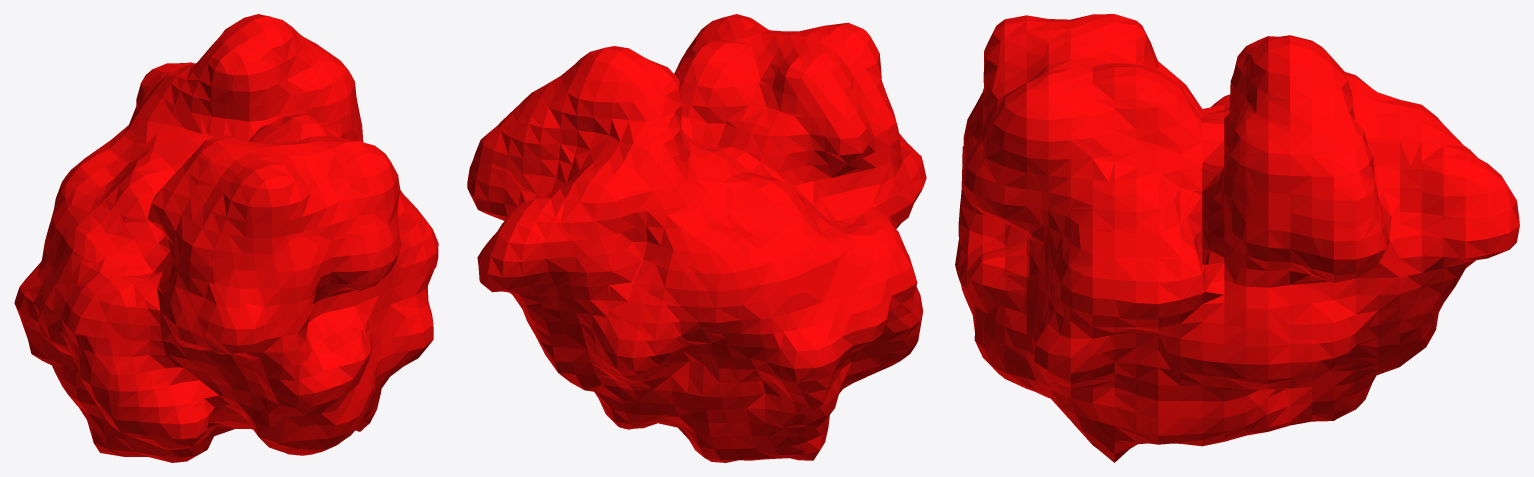
File: acnA_coarse.dae
3 views of the same model, side by side, from view 1: azimuth 30°, elevation 25°; view 2: azimuth 150°, elevation 25°; view 3: azimuth 270°, elevation 25° (orthographic). The views are drawn at different scales.
Visible parts, largest first — view 1: acnA; view 2: acnA; view 3: acnA.
Part boxes in pixels (x1=…): acnA: x1=14, y1=14, x2=438, y2=462; acnA: x1=467, y1=14, x2=926, y2=462; acnA: x1=955, y1=14, x2=1519, y2=462.
Size of the model in its own units: 71.49 by 72.53 by 86.13.
